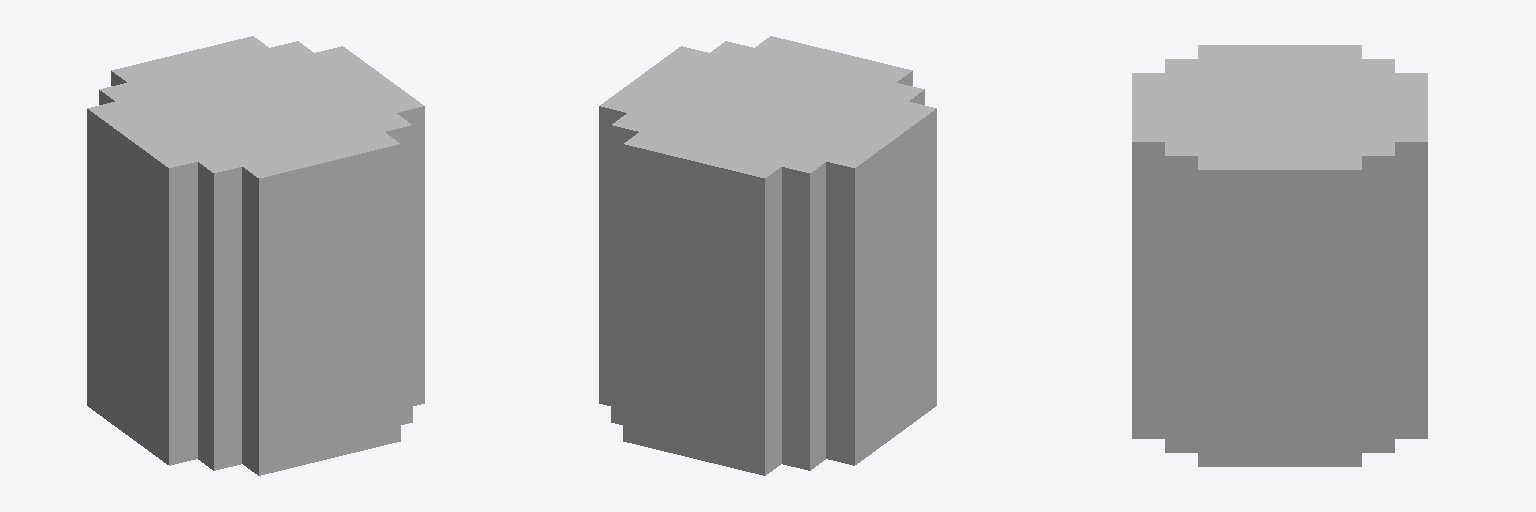
Rendered from barrel.obj.
3 views of the same model, side by side, from view 1: azimuth 30°, elevation 25°; view 2: azimuth 150°, elevation 25°; view 3: azimuth 270°, elevation 25° (orthographic).
Visible parts, largest first — view 1: object 1; view 2: object 1; view 3: object 1.
Part boxes in pixels (x1,y1,x2,y2): object 1: (87, 36, 424, 475); object 1: (599, 36, 936, 475); object 1: (1132, 45, 1427, 466).
Size of the model in its own units: 0.9 by 1 by 0.9.